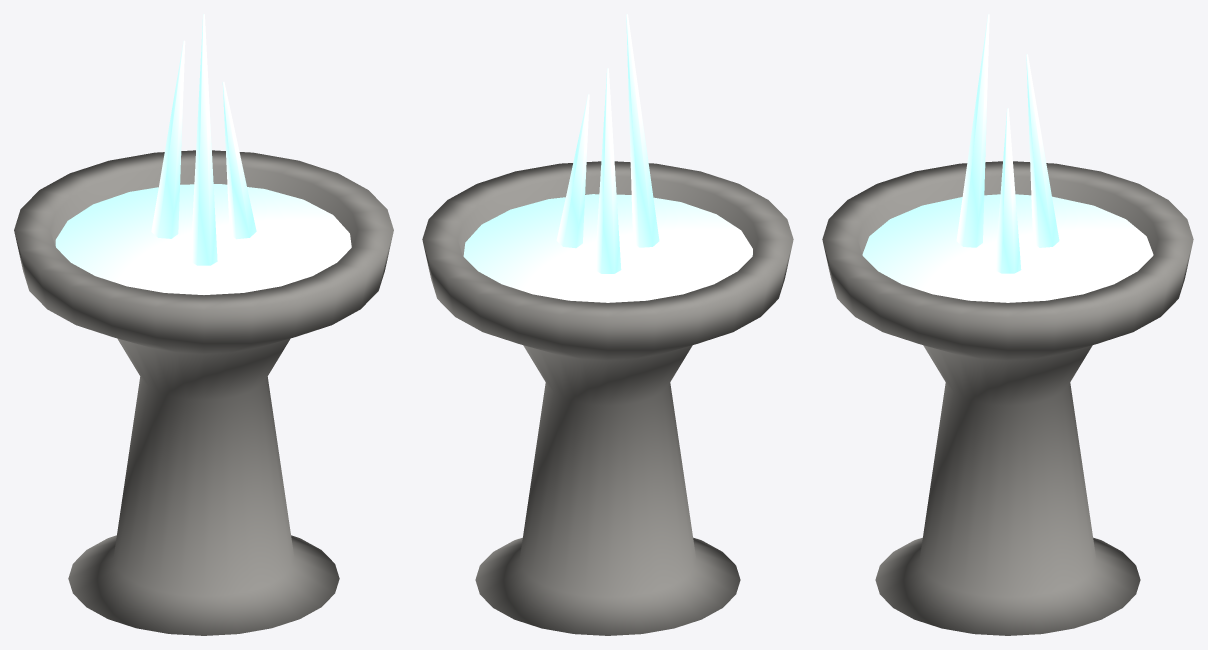
File: font_soul_font.glb
3 views of the same model, side by side, from view 1: azimuth 30°, elevation 25°; view 2: azimuth 150°, elevation 25°; view 3: azimuth 270°, elevation 25° (orthographic). The views are drawn at different scales.
Visible parts, largest first — view 1: GD_font_soul_font__m0, GD_font_soul_font__m1; view 2: GD_font_soul_font__m0, GD_font_soul_font__m1; view 3: GD_font_soul_font__m0, GD_font_soul_font__m1.
Boxes of the visible parts, x1,y1,x2,y2 form: GD_font_soul_font__m0: (14,150,393,635); GD_font_soul_font__m1: (55,14,351,294); GD_font_soul_font__m0: (422,161,793,635); GD_font_soul_font__m1: (463,14,752,302); GD_font_soul_font__m0: (822,161,1193,635); GD_font_soul_font__m1: (862,14,1153,302).
Size of the model in its own units: 0.84 by 1.4 by 0.84.
